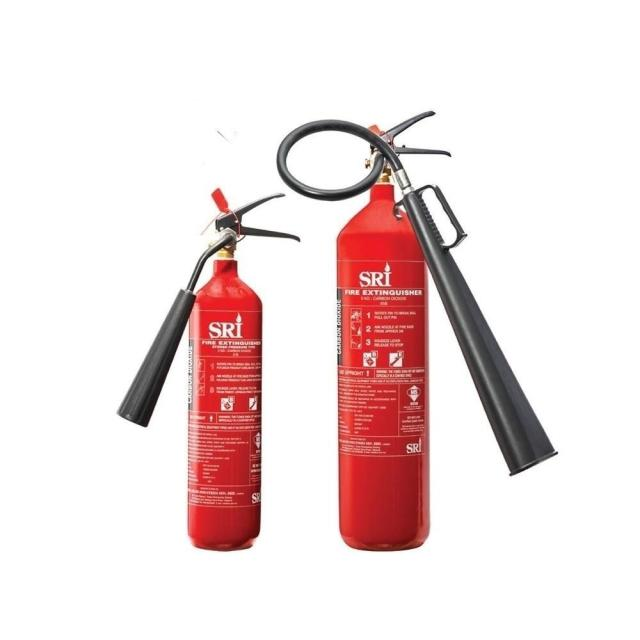fire_extinguisher: (269, 105, 561, 555), (110, 185, 304, 554)
